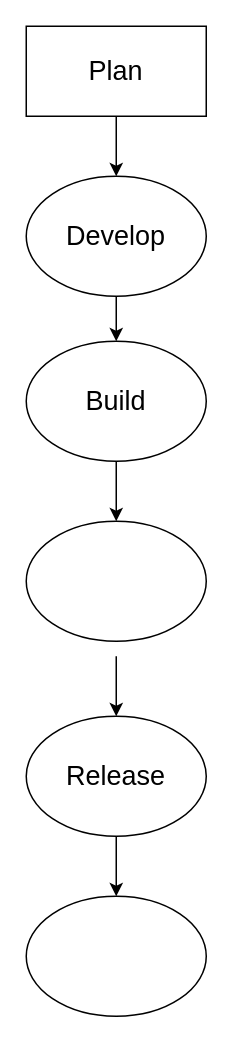
This 233x1043 diagram has some shape labels left out. The shapes that lost their labels are listed below. From the top down, each one's centre as x and y in pixels, then its label:
At pixel 115 580: "Test".
At pixel 115 955: "DevOPs".
